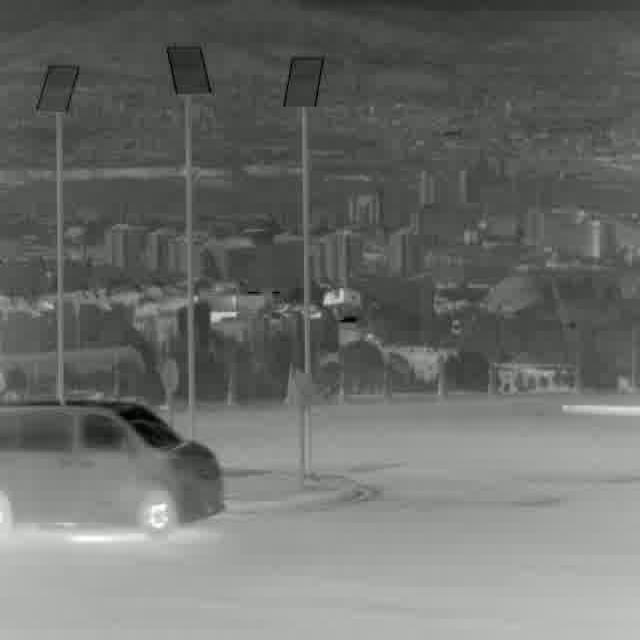Car: (0, 403, 230, 533)
